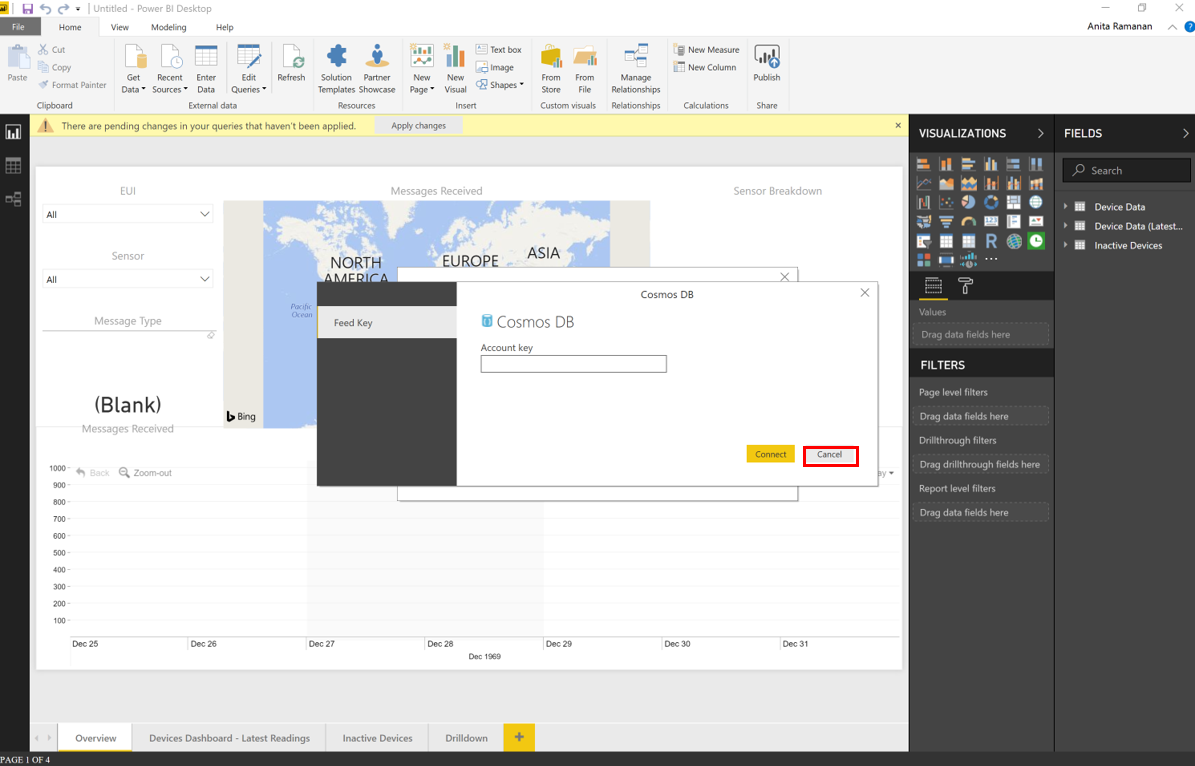

What the dashboard file says about the page in this screenshot:
{"tool":"powerbi","page":{"name":"Overview","canvas":[1280,720],"ordinal":0},"visuals":[{"type":"pieChart","fields":{"Category":["Loriot.Sensor Name"],"Y":["CountNonNull(Loriot.EUI)"]},"box":[912,0,368,368],"z":2},{"type":"slicer","fields":{"Values":["Loriot.EUI"]},"box":[0,0,272,80],"z":4},{"type":"slicer","fields":{"Values":["Loriot.Sensor Name"]},"box":[0,96,272,80],"z":4},{"type":"ChicletSlicer1448559807354","fields":{"Category":["Loriot.Message Type"]},"box":[0,192,272,80],"z":5},{"type":"card","fields":{"Values":["Loriot.Messages Received"]},"box":[0,288,272,96],"z":5},{"type":"ZoomChartsTimeChartFree33C9F325D337408C98D4E1D4E1EAD705","fields":{"Category":["Loriot.Timestamp (Gateway)"],"Values":["CountNonNull(Loriot.EUI)"]},"box":[0,384,1280,336],"z":5},{"type":"map","fields":{"Y":["Loriot.Device Latitude"],"X":["Loriot.Device Longitude"],"Size":["Loriot.Messages Received"]},"box":[272,0,640,368],"z":6}]}

Visuals, with their boxes on the page's 1280x720 design canvas (x1, y1, x2, y2). These are canvas units, not pixel positions in the 1195x766 screenshot, which may show the page scaled, cropped or inside an application window:
pieChart - Loriot.Sensor Name x CountNonNull(Loriot.EUI): (left=912, top=0, right=1280, bottom=368)
slicer - Loriot.EUI: (left=0, top=0, right=272, bottom=80)
slicer - Loriot.Sensor Name: (left=0, top=96, right=272, bottom=176)
ChicletSlicer1448559807354 - Loriot.Message Type: (left=0, top=192, right=272, bottom=272)
card - Loriot.Messages Received: (left=0, top=288, right=272, bottom=384)
ZoomChartsTimeChartFree33C9F325D337408C98D4E1D4E1EAD705 - Loriot.Timestamp (Gateway) x CountNonNull(Loriot.EUI): (left=0, top=384, right=1280, bottom=720)
map - Loriot.Device Latitude x Loriot.Device Longitude: (left=272, top=0, right=912, bottom=368)
